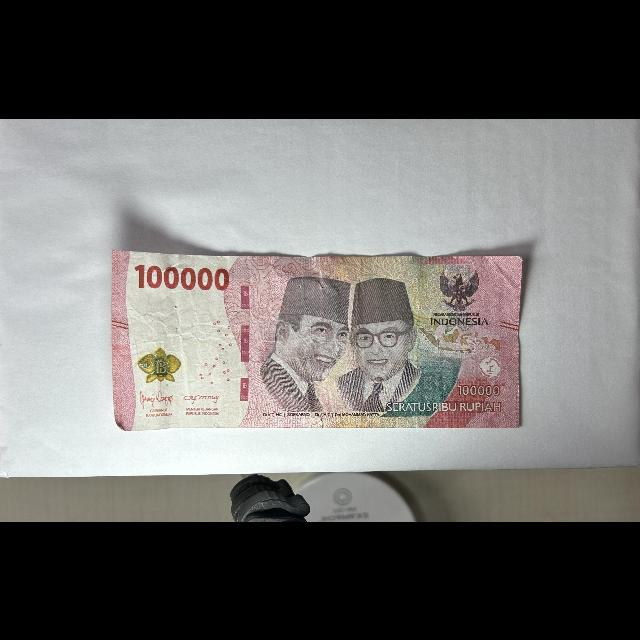Palsu-100k: (110, 247, 524, 432)
Tinta-Palsu-100k: (136, 346, 182, 383)
